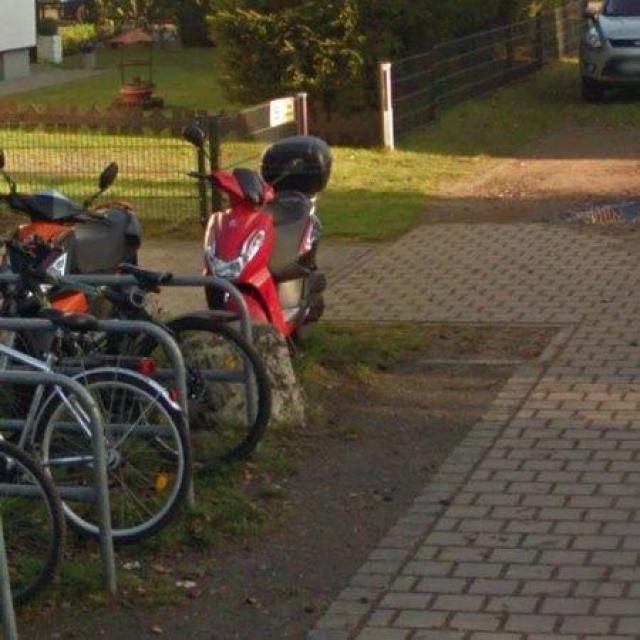bicycle: (2, 320, 190, 545), (1, 384, 99, 604), (170, 320, 271, 471)
